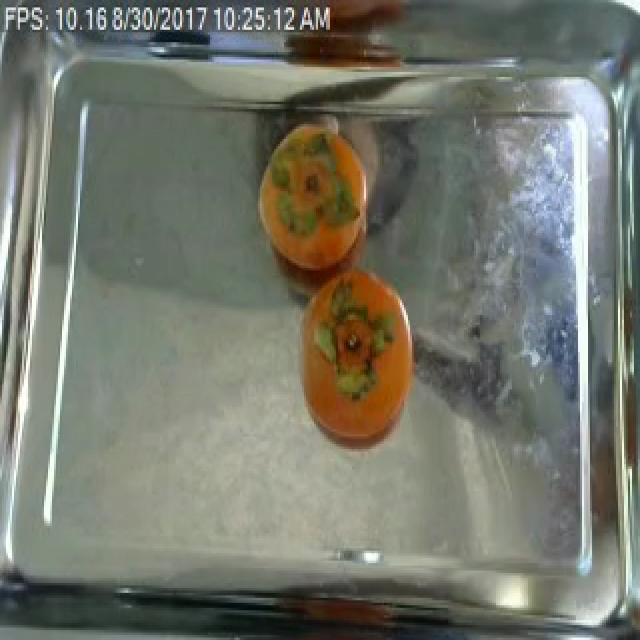Fruit: (246, 111, 382, 282)
